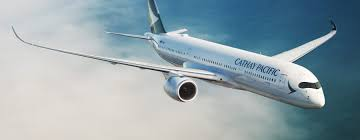maybay_dansu: (16, 4, 357, 117)
